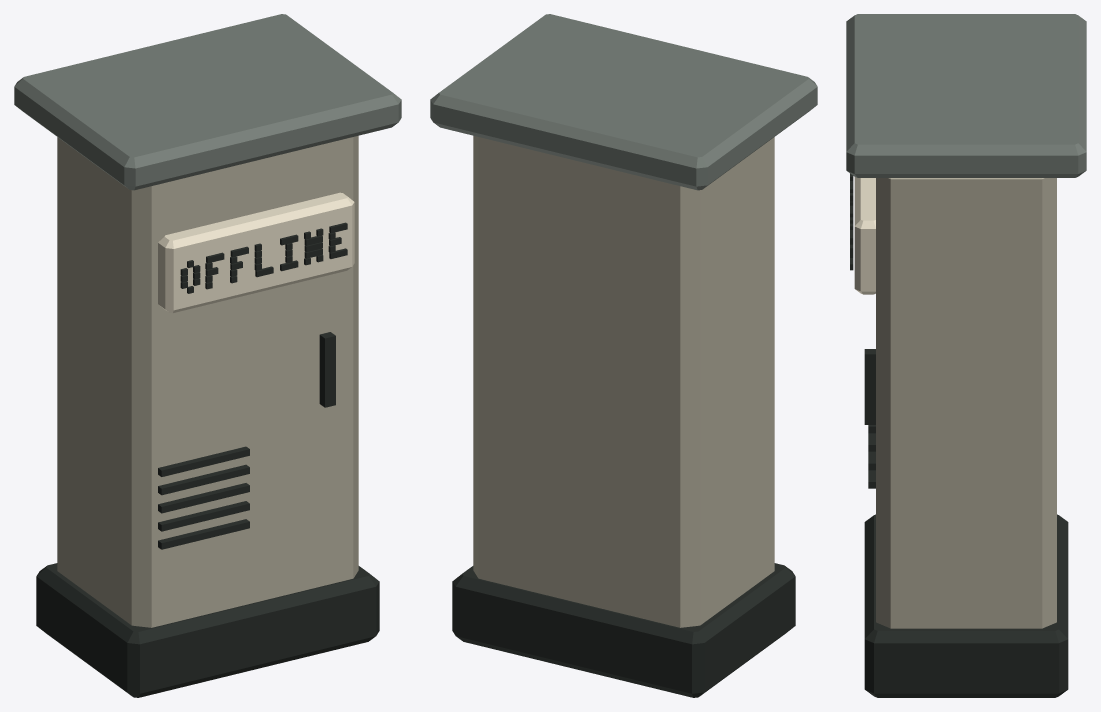
Rendered from utility-box.glb.
The picture shows the model from 3 angles, left to right: view 1: azimuth 30°, elevation 25°; view 2: azimuth 150°, elevation 25°; view 3: azimuth 270°, elevation 25°; orthographic projection.
Visible parts, largest first — view 1: utility-box; view 2: utility-box; view 3: utility-box.
Part boxes in pixels (left/top/right/bottom): utility-box: left=14, top=14, right=401, bottom=697; utility-box: left=430, top=14, right=817, bottom=697; utility-box: left=846, top=14, right=1086, bottom=697.
Size of the model in its own units: 0.88 by 1.67 by 0.65.
